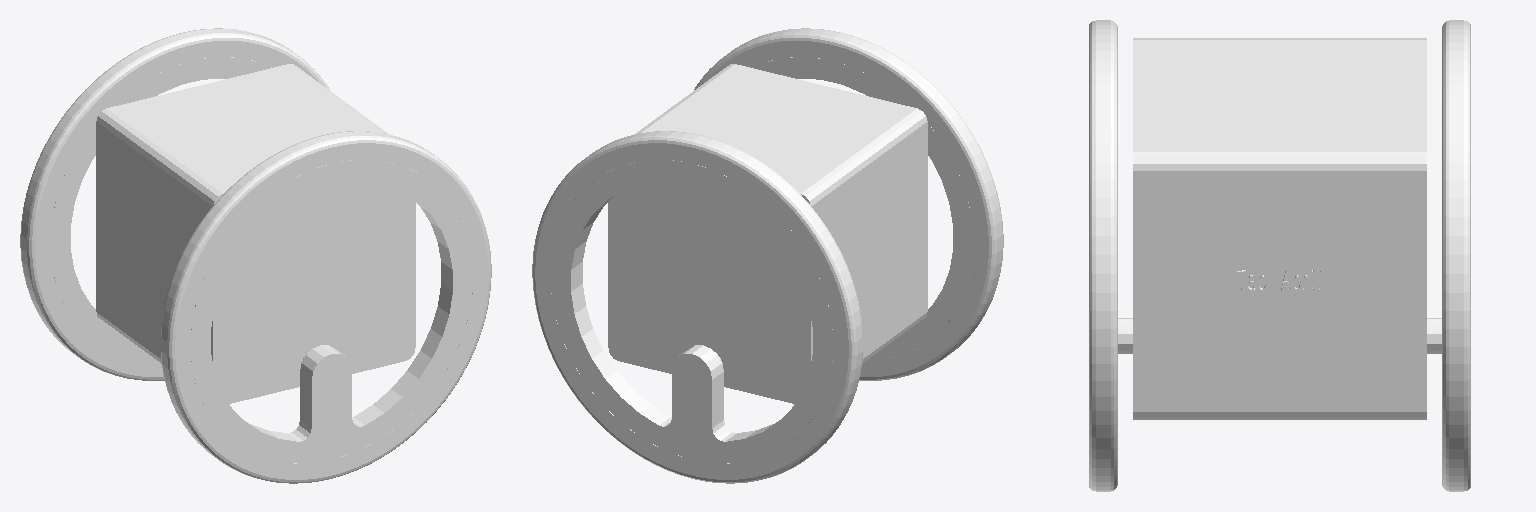
URDF robot description (URDF_Model):
<?xml version="1.0" encoding="utf-8"?>
<!-- This URDF was automatically created by SolidWorks to URDF Exporter! Originally created by Stephen Brawner (brawner@gmail.com) 
     Commit Version: 1.6.0-4-g7f85cfe  Build Version: 1.6.7995.38578
     For more information, please see http://wiki.ros.org/sw_urdf_exporter -->
<robot
  name="URDF_Model">
  <link
    name="base_link">
    <inertial>
      <origin
        xyz="-0.019944 -5.2713E-09 -0.013316"
        rpy="0 0 0" />
      <mass
        value="8.0119" />
      <inertia
        ixx="0.053692"
        ixy="5.1696E-09"
        ixz="2.892E-07"
        iyy="0.053191"
        iyz="-9.2023E-10"
        izz="0.053501" />
    </inertial>
    <visual>
      <origin
        xyz="0 0 0"
        rpy="0 0 0" />
      <geometry>
        <mesh
          filename="package://URDF_Model/meshes/base_link.STL" />
      </geometry>
      <material
        name="">
        <color
          rgba="1 1 1 1" />
      </material>
    </visual>
    <collision>
      <origin
        xyz="0 0 0"
        rpy="0 0 0" />
      <geometry>
        <mesh
          filename="package://URDF_Model/meshes/base_link.STL" />
      </geometry>
    </collision>
  </link>
  <link
    name="joint1_Link">
    <inertial>
      <origin
        xyz="-1.8978E-15 -0.01 0.048127"
        rpy="0 0 0" />
      <mass
        value="0.3785" />
      <inertia
        ixx="0.0031507"
        ixy="-5.0101E-22"
        ixz="2.9739E-18"
        iyy="0.0059232"
        iyz="1.1853E-21"
        izz="0.0027977" />
    </inertial>
    <visual>
      <origin
        xyz="0 0 0"
        rpy="0 0 0" />
      <geometry>
        <mesh
          filename="package://URDF_Model/meshes/joint1_Link.STL" />
      </geometry>
      <material
        name="">
        <color
          rgba="1 1 1 1" />
      </material>
    </visual>
    <collision>
      <origin
        xyz="0 0 0"
        rpy="0 0 0" />
      <geometry>
        <mesh
          filename="package://URDF_Model/meshes/joint1_Link.STL" />
      </geometry>
    </collision>
  </link>
  <joint
    name="joint1"
    type="continuous">
    <origin
      xyz="-0.01994 -0.11 -0.093022"
      rpy="0 0 0" />
    <parent
      link="base_link" />
    <child
      link="joint1_Link" />
    <axis
      xyz="0 -1 0" />
  </joint>
  <link
    name="joint2_Link">
    <inertial>
      <origin
        xyz="3.4694E-18 -0.01 -4.8572E-17"
        rpy="0 0 0" />
      <mass
        value="0.36628" />
      <inertia
        ixx="0.0041365"
        ixy="2.5896E-36"
        ixz="2.8912E-19"
        iyy="0.0082496"
        iyz="-1.3156E-35"
        izz="0.0041365" />
    </inertial>
    <visual>
      <origin
        xyz="0 0 0"
        rpy="0 0 0" />
      <geometry>
        <mesh
          filename="package://URDF_Model/meshes/joint2_Link.STL" />
      </geometry>
      <material
        name="">
        <color
          rgba="1 1 1 1" />
      </material>
    </visual>
    <collision>
      <origin
        xyz="0 0 0"
        rpy="0 0 0" />
      <geometry>
        <mesh
          filename="package://URDF_Model/meshes/joint2_Link.STL" />
      </geometry>
    </collision>
  </link>
  <joint
    name="joint2"
    type="continuous">
    <origin
      xyz="0 0 0.06"
      rpy="0 0 0" />
    <parent
      link="joint1_Link" />
    <child
      link="joint2_Link" />
    <axis
      xyz="0 -1 0" />
  </joint>
  <link
    name="joint3_Link">
    <inertial>
      <origin
        xyz="-4.6387E-15 -0.01 0.048127"
        rpy="0 0 0" />
      <mass
        value="0.3785" />
      <inertia
        ixx="0.0031507"
        ixy="-1.7058E-20"
        ixz="2.9749E-18"
        iyy="0.0059232"
        iyz="3.0729E-20"
        izz="0.0027977" />
    </inertial>
    <visual>
      <origin
        xyz="0 0 0"
        rpy="0 0 0" />
      <geometry>
        <mesh
          filename="package://URDF_Model/meshes/joint3_Link.STL" />
      </geometry>
      <material
        name="">
        <color
          rgba="1 1 1 1" />
      </material>
    </visual>
    <collision>
      <origin
        xyz="0 0 0"
        rpy="0 0 0" />
      <geometry>
        <mesh
          filename="package://URDF_Model/meshes/joint3_Link.STL" />
      </geometry>
    </collision>
  </link>
  <joint
    name="joint3"
    type="continuous">
    <origin
      xyz="-0.01994 0.13 -0.093022"
      rpy="0 0 0" />
    <parent
      link="base_link" />
    <child
      link="joint3_Link" />
    <axis
      xyz="0 1 0" />
  </joint>
  <link
    name="joint4_Link">
    <inertial>
      <origin
        xyz="3.4694E-18 -0.01 -4.8572E-17"
        rpy="0 0 0" />
      <mass
        value="0.36628" />
      <inertia
        ixx="0.0041365"
        ixy="3.614E-20"
        ixz="2.8912E-19"
        iyy="0.0082496"
        iyz="-3.2789E-35"
        izz="0.0041365" />
    </inertial>
    <visual>
      <origin
        xyz="0 0 0"
        rpy="0 0 0" />
      <geometry>
        <mesh
          filename="package://URDF_Model/meshes/joint4_Link.STL" />
      </geometry>
      <material
        name="">
        <color
          rgba="1 1 1 1" />
      </material>
    </visual>
    <collision>
      <origin
        xyz="0 0 0"
        rpy="0 0 0" />
      <geometry>
        <mesh
          filename="package://URDF_Model/meshes/joint4_Link.STL" />
      </geometry>
    </collision>
  </link>
  <joint
    name="joint4"
    type="continuous">
    <origin
      xyz="0 0 0.06"
      rpy="0 0 0" />
    <parent
      link="joint3_Link" />
    <child
      link="joint4_Link" />
    <axis
      xyz="0 -1 0" />
  </joint>
</robot>

--- Render facts (derived) ---
Views: 3 orthographic renders of the robot side by side, from view 1: azimuth 30°, elevation 25°; view 2: azimuth 150°, elevation 25°; view 3: azimuth 270°, elevation 25°.
Model URDF_Model with 5 links and 4 joints (4 continuous), rooted at base_link, posed all joints at 0.
Visible links, largest first — view 1: base_link, joint1_Link, joint2_Link, joint4_Link, joint3_Link; view 2: base_link, joint3_Link, joint4_Link, joint2_Link, joint1_Link; view 3: base_link, joint2_Link, joint4_Link.
Link boxes in pixels (x1,y1,x2,y2): base_link: (96,64,415,403); joint1_Link: (190,159,472,463); joint2_Link: (161,131,491,483); joint4_Link: (20,28,329,380); joint3_Link: (50,57,271,360); base_link: (608,64,927,403); joint3_Link: (551,159,833,463); joint4_Link: (532,131,862,483); joint2_Link: (694,28,1003,380); joint1_Link: (752,57,973,360); base_link: (1118,38,1441,419); joint2_Link: (1089,20,1117,491); joint4_Link: (1442,20,1470,491).
Size in the robot's own frame: 0.3198 by 0.26 by 0.32 metres.
Meshes: 5 distinct files referenced, 5 mesh visuals loaded (5 binary STL).
